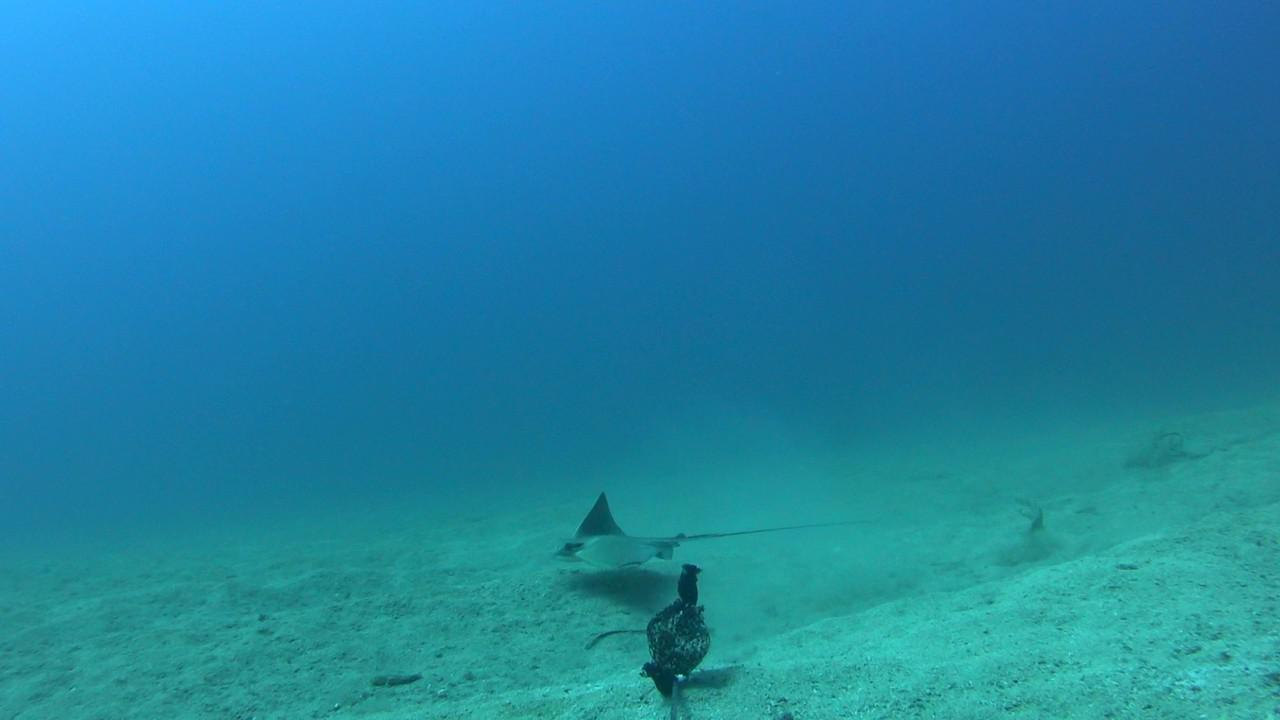myliobatis: (518, 487, 916, 578)
